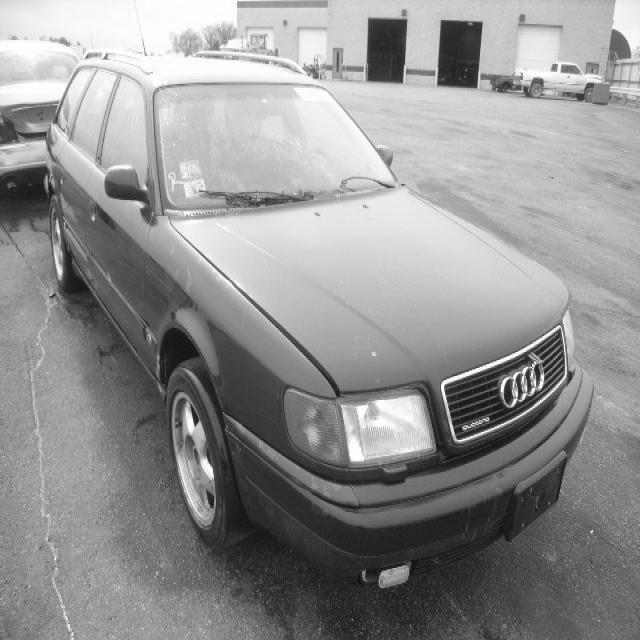car: (43, 49, 594, 590), (0, 38, 82, 194)
